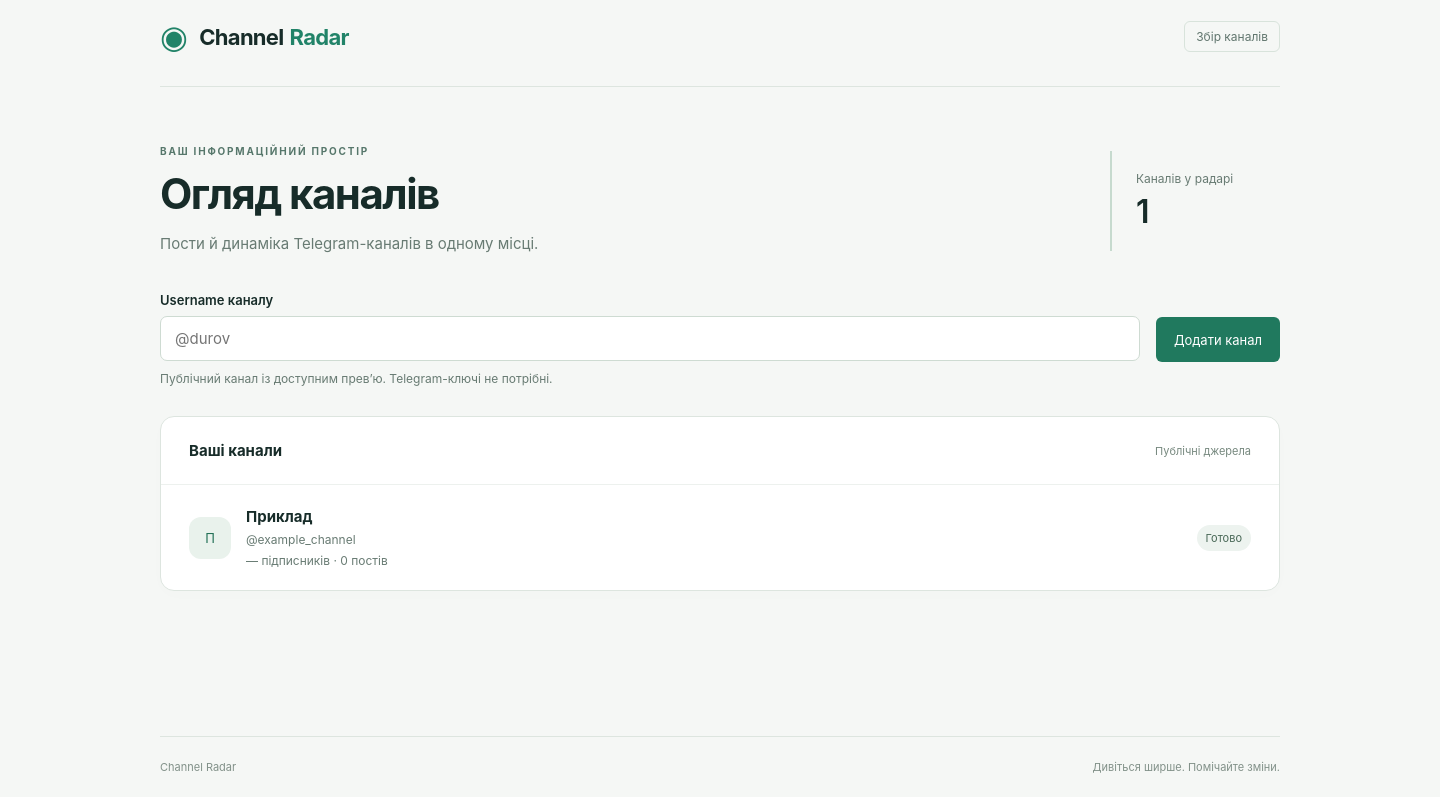
shows ready and does not duplicate an existing channel
The width and height of the screenshot is (1440, 797).
Check: the text "Приклад" is shown, box [246,508,312,526]
Type "@example_channel" into the field labelled "Username каналу".
click(650, 339); type("@example_channel")  # box [160,316,1140,361]
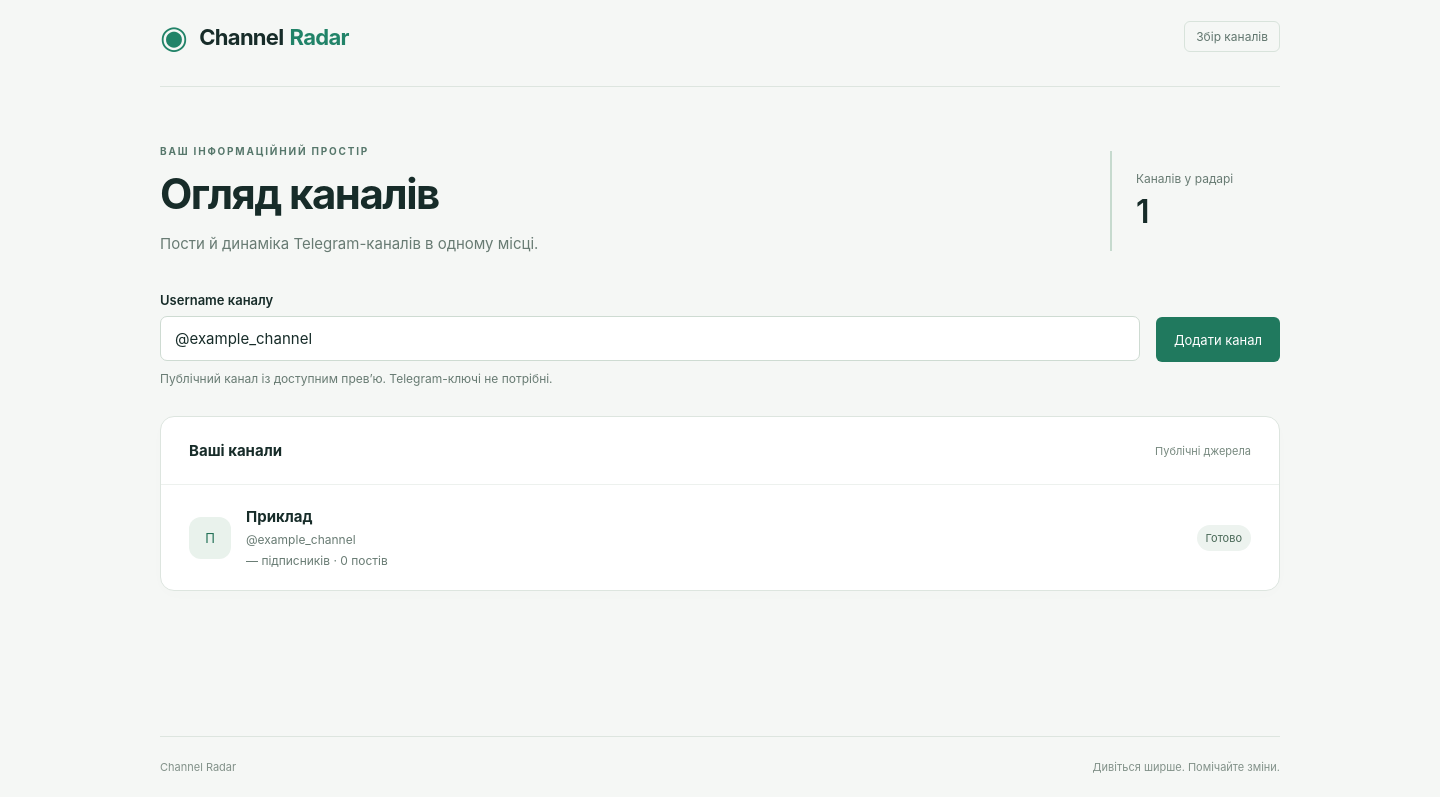
Click the button "Додати канал".
click(1218, 340)  # box [1156,317,1280,362]
(page scrolled)
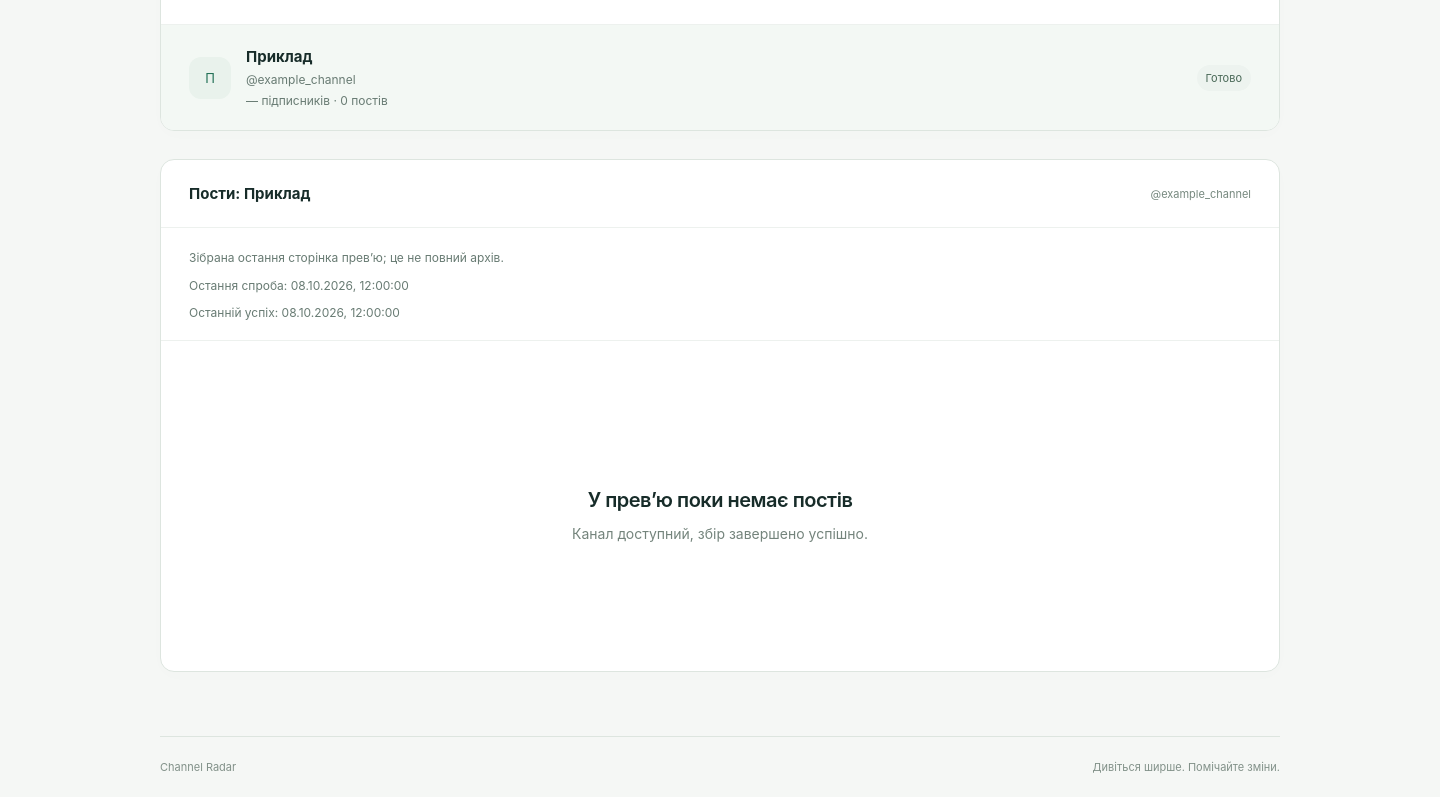
Check: the number of list items is 1, box [161,26,1279,130]
Check: the heading "Пости: Приклад" is shown, box [189,184,310,204]
Check: the heading "У прев’ю поки немає постів" is shown, box [588,488,852,512]
